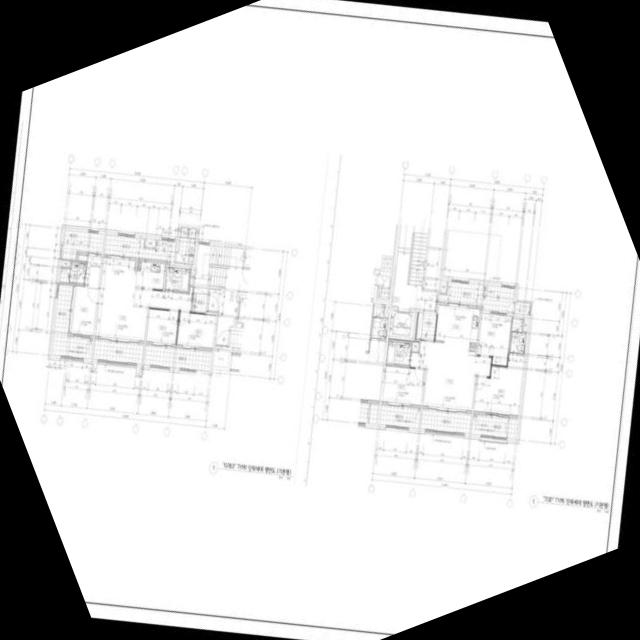background: (0, 0, 640, 640)
space_balconi: (52, 284, 93, 359), (439, 282, 515, 313), (104, 235, 176, 265), (144, 345, 212, 371), (62, 230, 104, 261), (93, 339, 144, 364), (421, 409, 471, 434), (379, 405, 420, 428), (176, 226, 198, 266), (472, 415, 509, 438), (514, 303, 531, 315)
space_bedroom: (474, 355, 524, 415), (70, 256, 101, 336), (478, 313, 512, 366), (382, 366, 424, 405), (177, 312, 216, 349), (146, 308, 180, 345)
space_elevator: (389, 310, 416, 338), (236, 295, 248, 329)
space_elevator_hall: (208, 287, 248, 347), (392, 284, 438, 311)
space_front: (416, 313, 436, 340), (192, 287, 208, 313)
space_kitchen: (435, 305, 480, 356), (101, 257, 165, 289)
space_living_room: (411, 341, 491, 411), (95, 284, 193, 341)
space_other: (425, 249, 442, 279), (213, 349, 230, 368), (508, 418, 518, 439), (424, 280, 439, 290), (145, 239, 156, 248), (440, 281, 447, 293), (188, 256, 195, 267), (78, 255, 88, 262), (412, 342, 419, 352), (523, 319, 528, 332), (190, 269, 194, 285), (61, 261, 70, 267)
space_staircase: (195, 244, 250, 290), (395, 225, 428, 286)
space_toilet: (165, 267, 191, 293), (59, 262, 86, 285), (386, 342, 411, 366), (510, 332, 527, 354), (512, 319, 523, 332)
